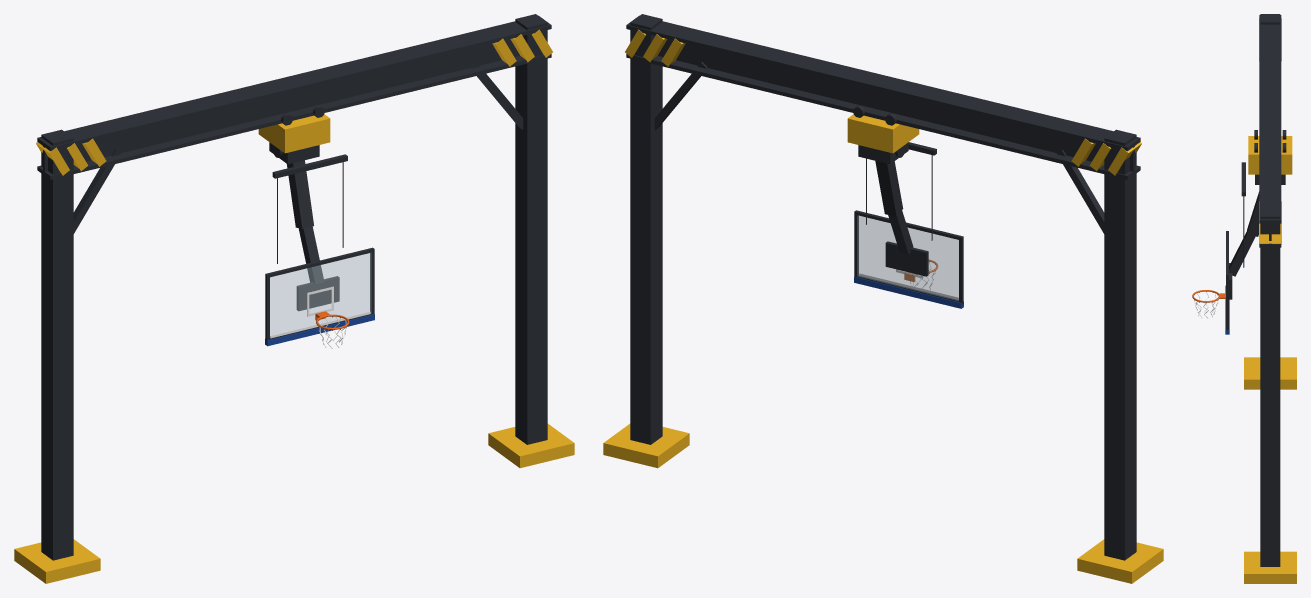
File: hoop_crane.glb
3 renders of one model, left to right at view 1: azimuth 30°, elevation 25°; view 2: azimuth 150°, elevation 25°; view 3: azimuth 270°, elevation 25°, orthographic. The views are drawn at different scales.
Visible parts, largest first — view 1: crane_frame_mesh, crane_rail_mesh, backboard_mesh, crane_carriage_mesh; view 2: crane_frame_mesh, crane_rail_mesh, crane_carriage_mesh, backboard_mesh; view 3: crane_frame_mesh, crane_rail_mesh, crane_carriage_mesh, backboard_mesh, rim_mesh.
Boxes of the visible parts, left/top/right/bottom form: crane_frame_mesh: left=14, top=14, right=574, bottom=583; crane_rail_mesh: left=36, top=15, right=552, bottom=179; backboard_mesh: left=265, top=247, right=374, bottom=341; crane_carriage_mesh: left=258, top=106, right=374, bottom=346; crane_frame_mesh: left=603, top=14, right=1163, bottom=583; crane_rail_mesh: left=625, top=15, right=1141, bottom=179; crane_carriage_mesh: left=847, top=106, right=963, bottom=308; backboard_mesh: left=854, top=210, right=963, bottom=304; crane_frame_mesh: left=1244, top=14, right=1296, bottom=583; crane_rail_mesh: left=1259, top=15, right=1281, bottom=247; crane_carriage_mesh: left=1225, top=130, right=1292, bottom=334; backboard_mesh: left=1226, top=231, right=1228, bottom=329; rim_mesh: left=1192, top=290, right=1225, bottom=303.
Size of the model in its own units: 11.6 by 9 by 2.37.
